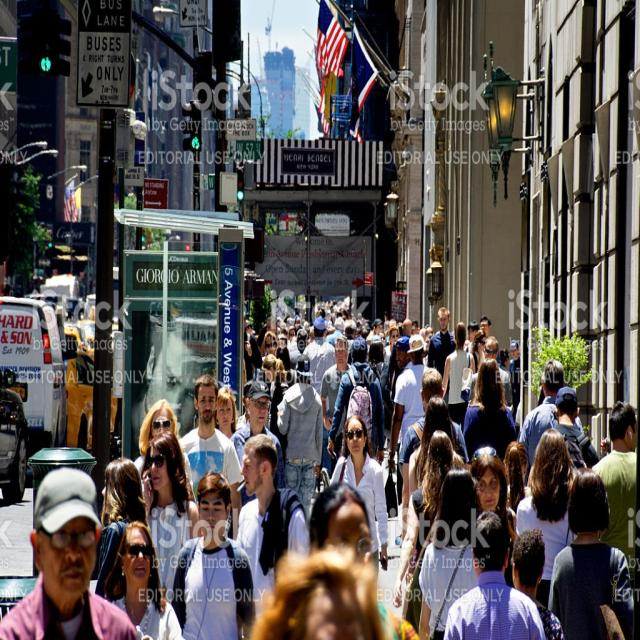body: (0, 464, 141, 639), (259, 292, 500, 378), (391, 429, 465, 637), (547, 467, 635, 640), (170, 469, 258, 640), (440, 506, 551, 639), (235, 432, 311, 620), (246, 551, 401, 639), (398, 367, 471, 548), (515, 426, 579, 610), (178, 374, 245, 538), (132, 310, 217, 436), (94, 455, 162, 612), (329, 413, 391, 580), (141, 429, 200, 604), (102, 519, 184, 640), (588, 399, 638, 585), (276, 353, 325, 534), (518, 358, 584, 485), (325, 336, 386, 468), (230, 379, 288, 508), (469, 451, 519, 590), (133, 398, 195, 501), (510, 527, 566, 640), (408, 395, 465, 506), (302, 316, 337, 492), (461, 359, 518, 465), (387, 334, 431, 470), (308, 482, 373, 566), (318, 335, 353, 478), (440, 320, 478, 435), (552, 384, 600, 469), (392, 335, 413, 510), (261, 352, 290, 470), (469, 334, 513, 408), (427, 306, 458, 380), (502, 441, 532, 516), (212, 384, 240, 439), (243, 311, 263, 383), (232, 378, 255, 431), (366, 339, 389, 388), (508, 340, 521, 425), (498, 348, 514, 408), (470, 329, 487, 374), (264, 332, 278, 356), (478, 315, 492, 338)
